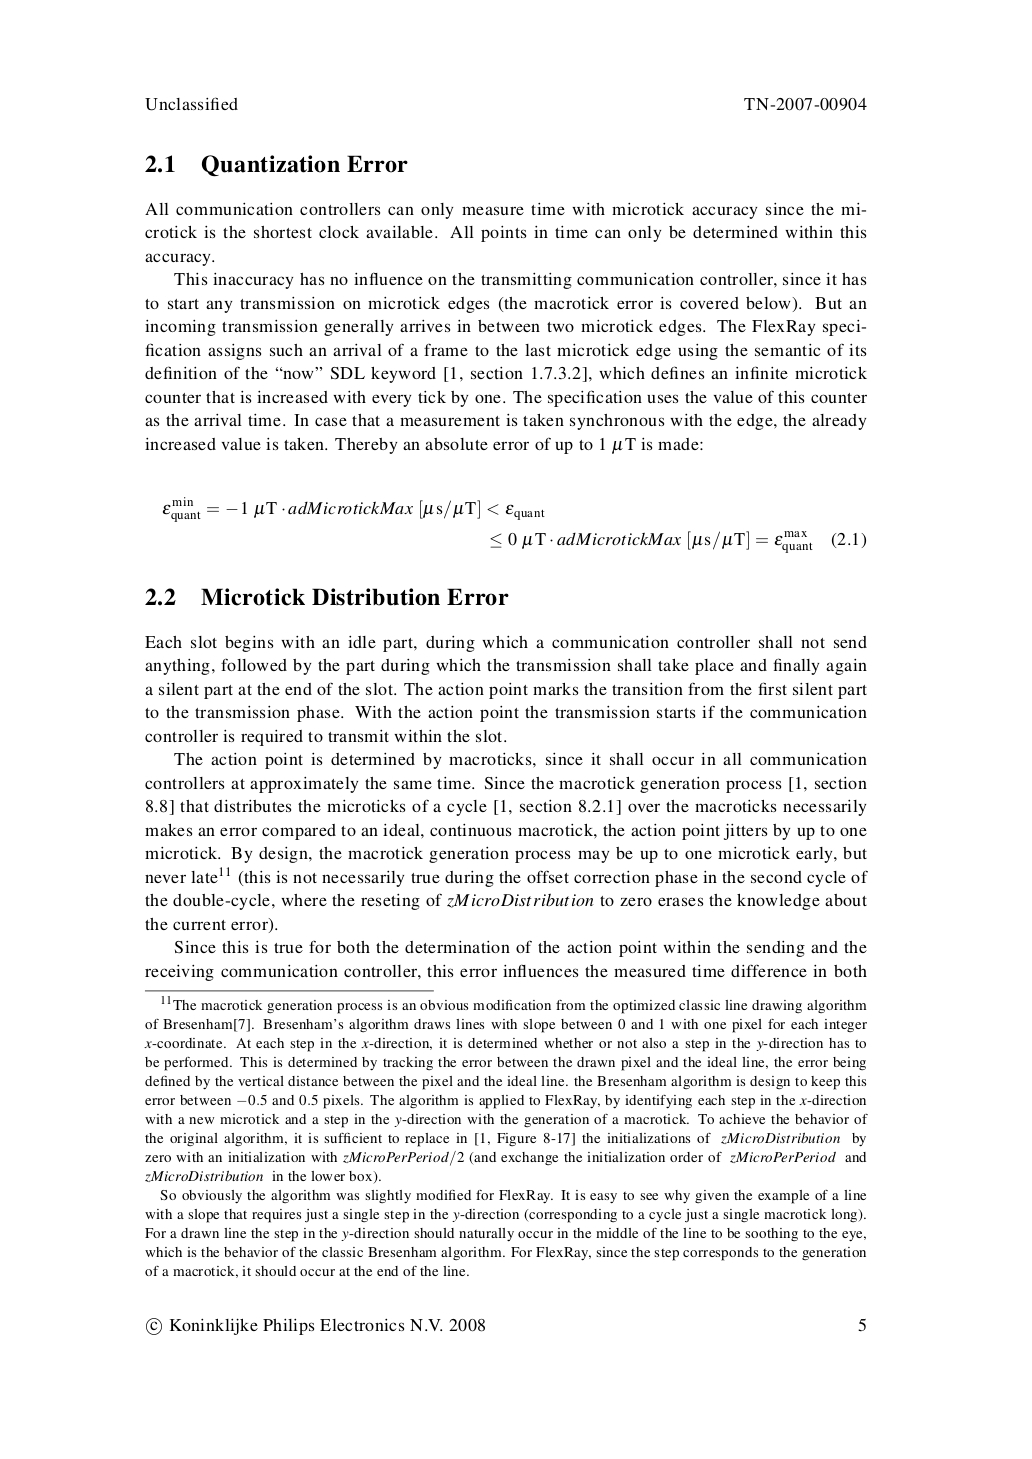formula: (162, 495, 544, 522), (490, 530, 866, 553)
